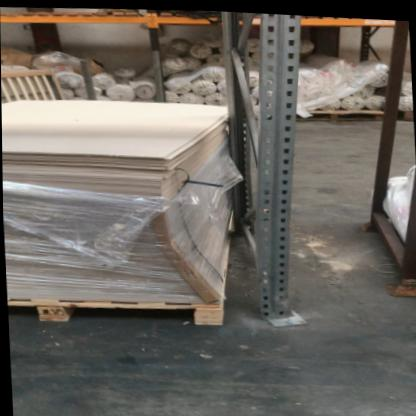vertical_damage: (250, 252, 311, 330)
